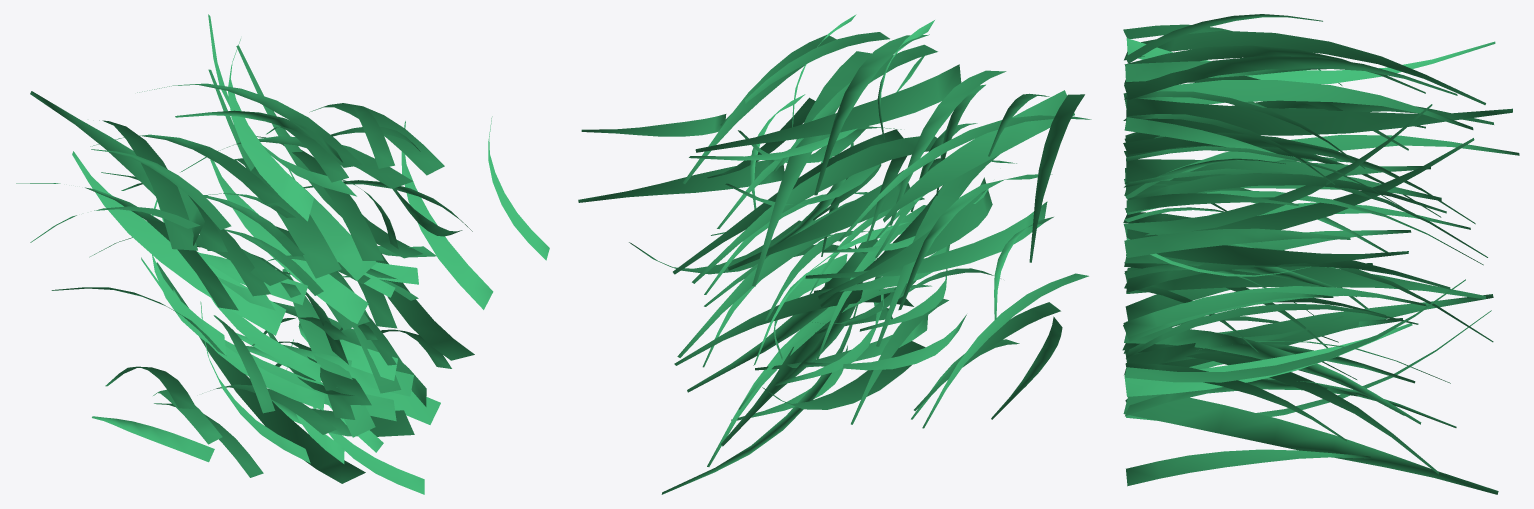
File: GrassBlade.fbx
3 renders of one model, left to right at view 1: azimuth 30°, elevation 25°; view 2: azimuth 150°, elevation 25°; view 3: azimuth 270°, elevation 25°, orthographic. The views are drawn at different scales.
Visible parts, largest first — view 1: GrassBlade.043; view 2: GrassBlade.043; view 3: GrassBlade.043.
Part boxes in pixels (x1=…): GrassBlade.043: x1=16, y1=14, x2=549, y2=494; GrassBlade.043: x1=578, y1=14, x2=1091, y2=494; GrassBlade.043: x1=1122, y1=14, x2=1519, y2=494.
Bounding box in the file's own units: 189 × 147 × 137.
